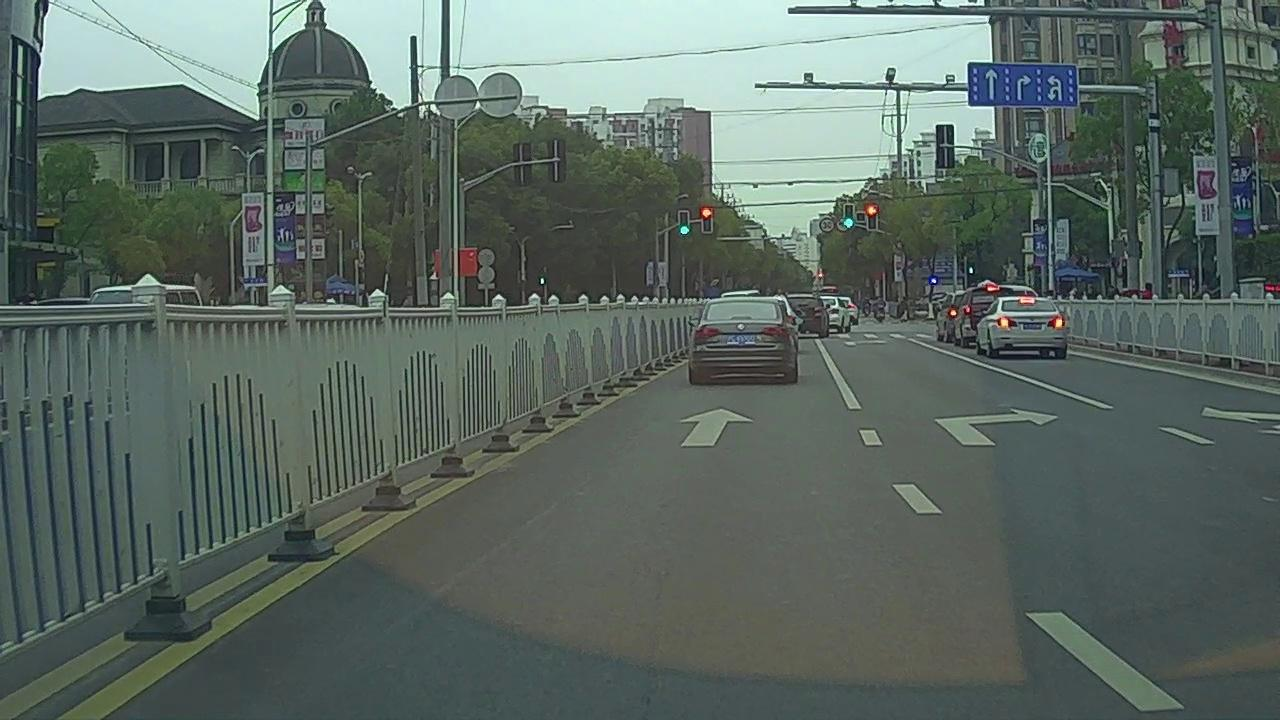traffic_light: (868, 203, 878, 229), (703, 208, 713, 233), (679, 212, 689, 236), (844, 206, 854, 228)
